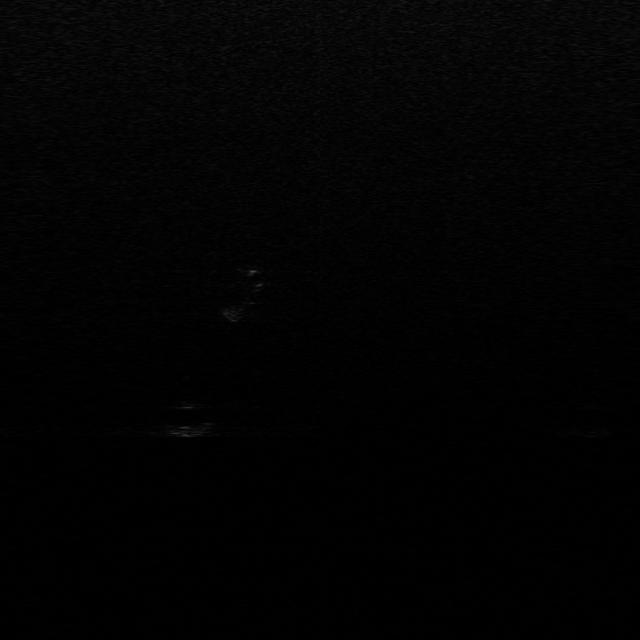ball: (157, 400, 216, 438)
tyre: (222, 264, 264, 321)
